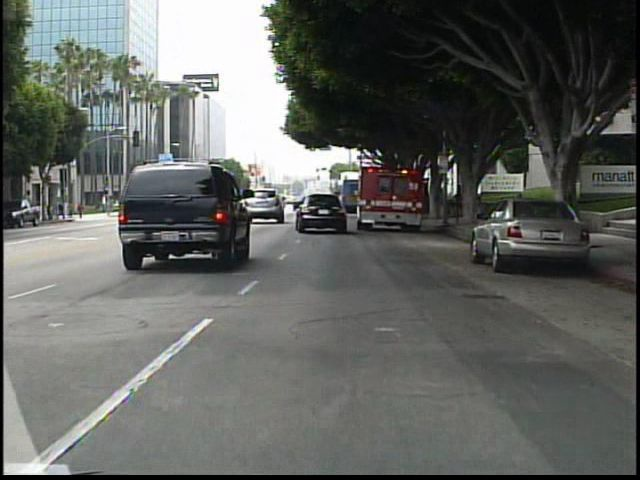person: (453, 187, 466, 222), (75, 198, 88, 222), (66, 198, 77, 222)
